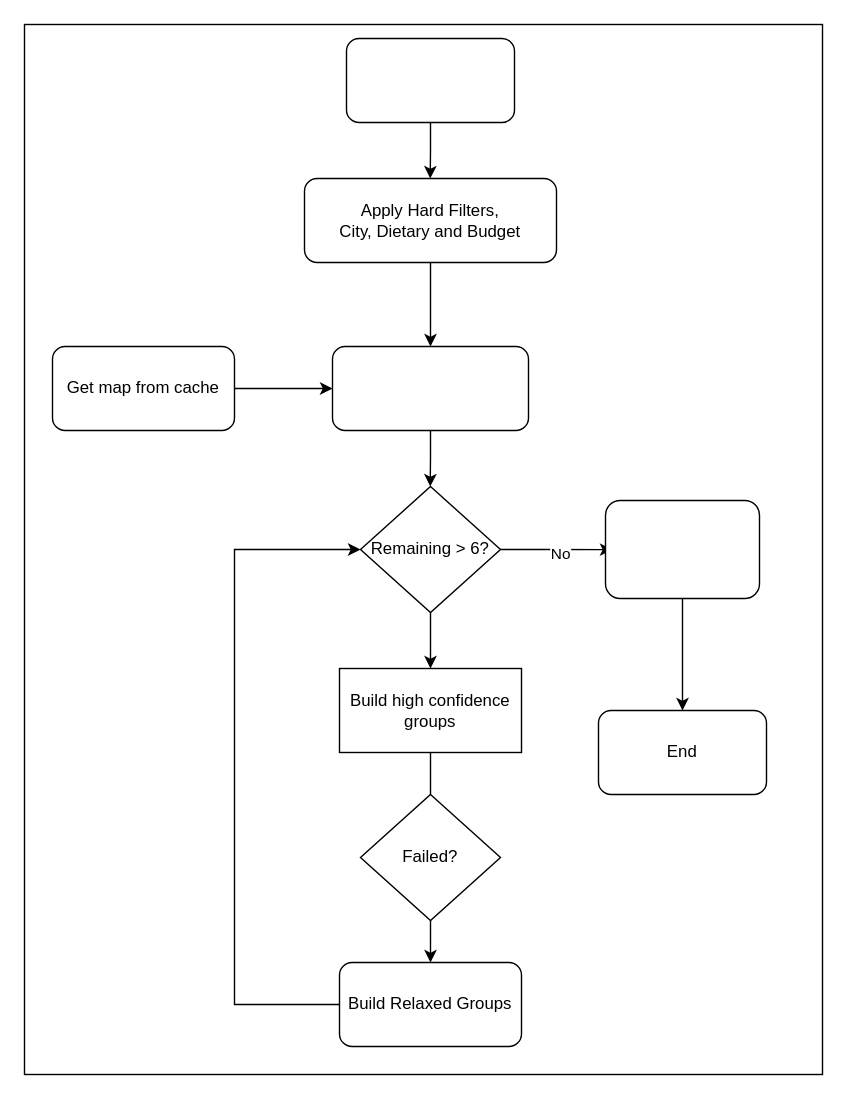
This 847x1099 diagram has some shape labels left out. The shapes that lost their labels are listed below. From the top down, each one's centre as x and y in pixels, then its label:
At point (429, 79): "Start".
At point (429, 387): "Filter Similarity Map".
At point (682, 548): "Group left overs if any".
